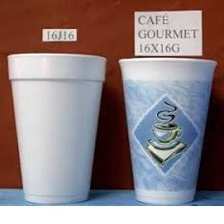paper_cup: (2, 47, 109, 205), (114, 52, 220, 204)
